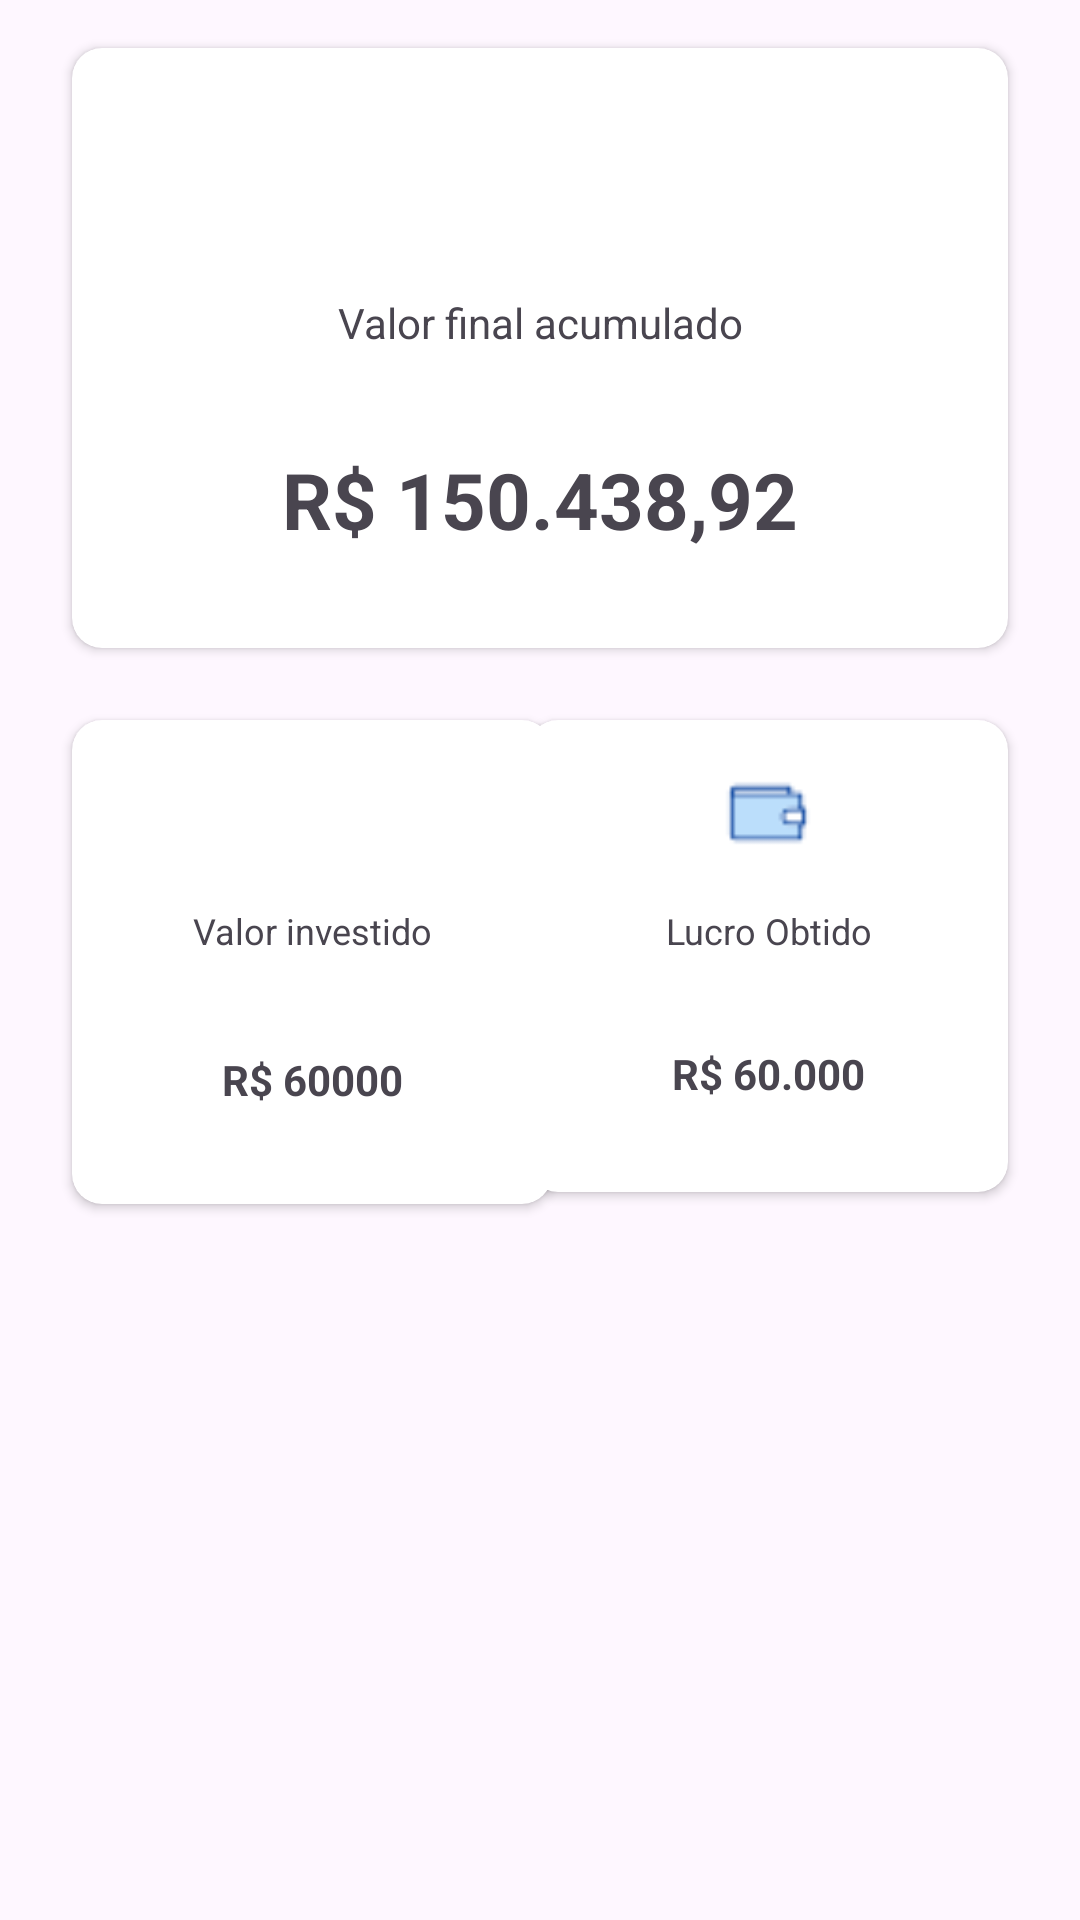

Icons on this 1080w x 1920h Android screen, each with the point to tap as [x,y]:
saldo: [768,813]
